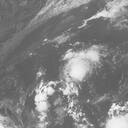cyclone: (65, 49, 100, 82)
